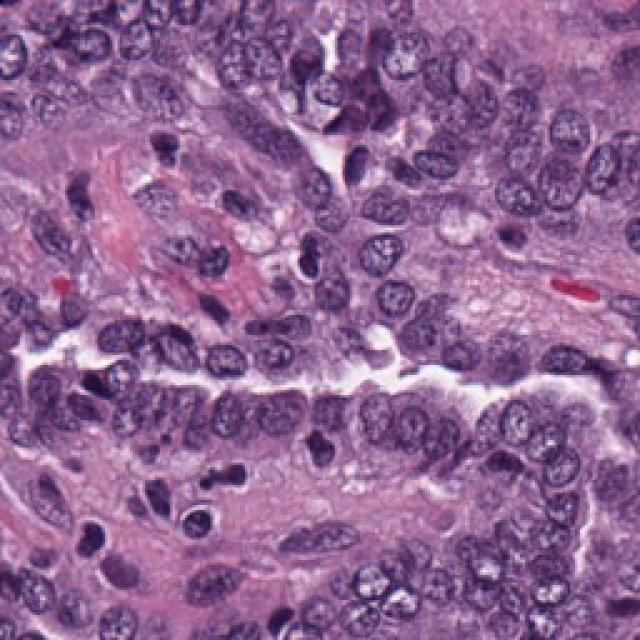abnormal: (182, 312, 254, 393), (341, 370, 398, 462), (380, 12, 440, 92), (349, 381, 407, 460), (514, 393, 566, 474), (476, 389, 536, 458), (352, 547, 408, 620), (545, 95, 603, 164), (106, 13, 176, 70), (466, 539, 522, 609), (347, 222, 406, 288), (198, 373, 249, 449), (542, 161, 601, 226), (365, 261, 422, 326), (251, 380, 306, 447), (278, 164, 345, 216), (409, 133, 462, 197), (393, 400, 441, 470), (14, 558, 60, 628), (465, 70, 510, 139), (67, 20, 125, 70), (0, 13, 33, 100), (110, 8, 156, 69), (414, 135, 464, 191), (97, 358, 148, 411), (522, 573, 575, 620), (545, 447, 583, 512)
